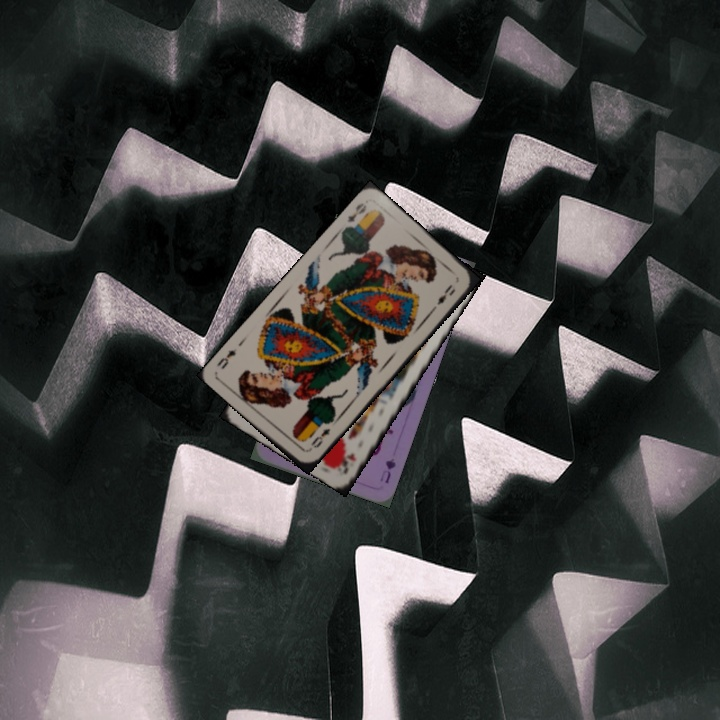EO: (306, 424, 333, 450), (343, 199, 369, 225)
GU: (376, 454, 398, 486)
HK: (335, 448, 359, 476)
